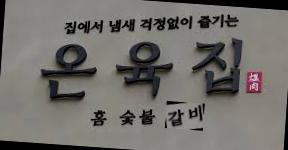galbi: (164, 101, 204, 130)
